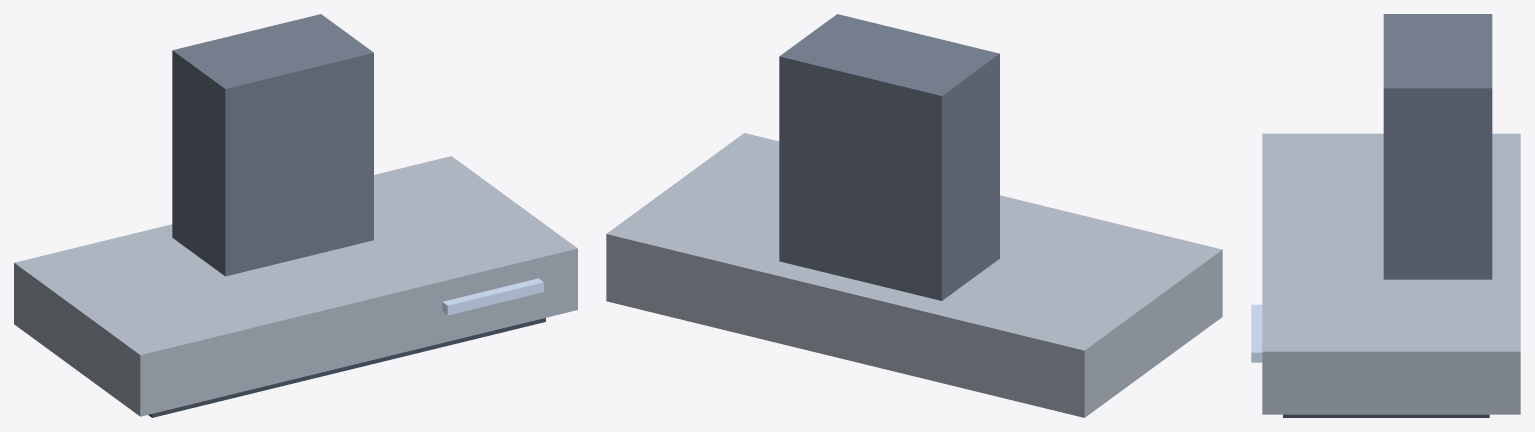
The model's file is rangehood.glb.
3 views of the same model, side by side, from view 1: azimuth 30°, elevation 25°; view 2: azimuth 150°, elevation 25°; view 3: azimuth 270°, elevation 25° (orthographic). The views are drawn at different scales.
Parts seen in each view (by area): view 1: rangehood; view 2: rangehood; view 3: rangehood.
Boxes of the visible parts, left/top/right/bottom form: rangehood: left=14, top=14, right=577, bottom=417; rangehood: left=606, top=14, right=1222, bottom=417; rangehood: left=1251, top=14, right=1520, bottom=417.
Size of the model in its own units: 0.9 by 0.517 by 0.4693.
